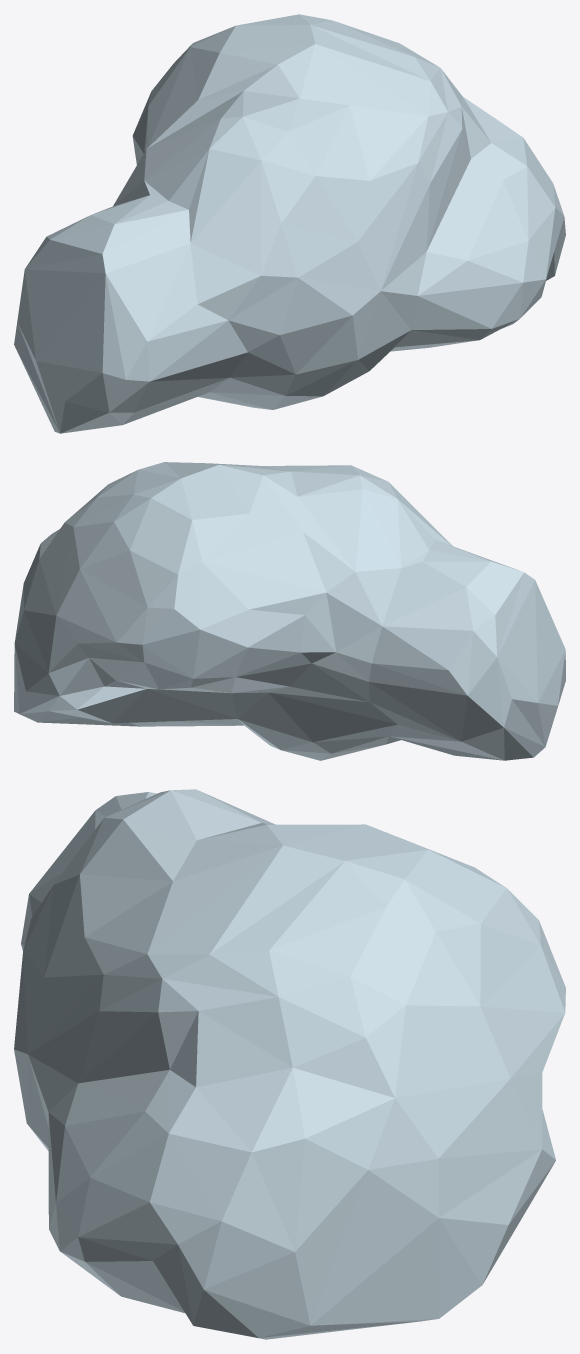
Rendered from Cloud4.fbx.
3 views of the same model, one above another, from view 1: azimuth 30°, elevation 25°; view 2: azimuth 150°, elevation 25°; view 3: azimuth 270°, elevation 25° (orthographic). The views are drawn at different scales.
Visible parts, largest first — view 1: pPlatonic1; view 2: pPlatonic1; view 3: pPlatonic1.
Part boxes in pixels (left/top/right/bottom): pPlatonic1: left=14, top=14, right=565, bottom=433; pPlatonic1: left=14, top=462, right=565, bottom=760; pPlatonic1: left=14, top=789, right=565, bottom=1339.
Size of the model in its own units: 4.11 by 2.33 by 2.73.
